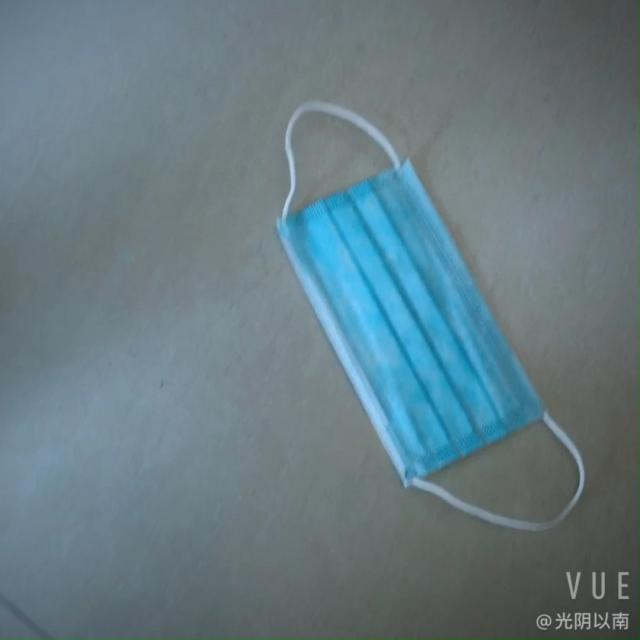face mask: (275, 148, 565, 497)
